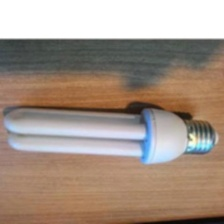light_bulb: (1, 100, 221, 167)
